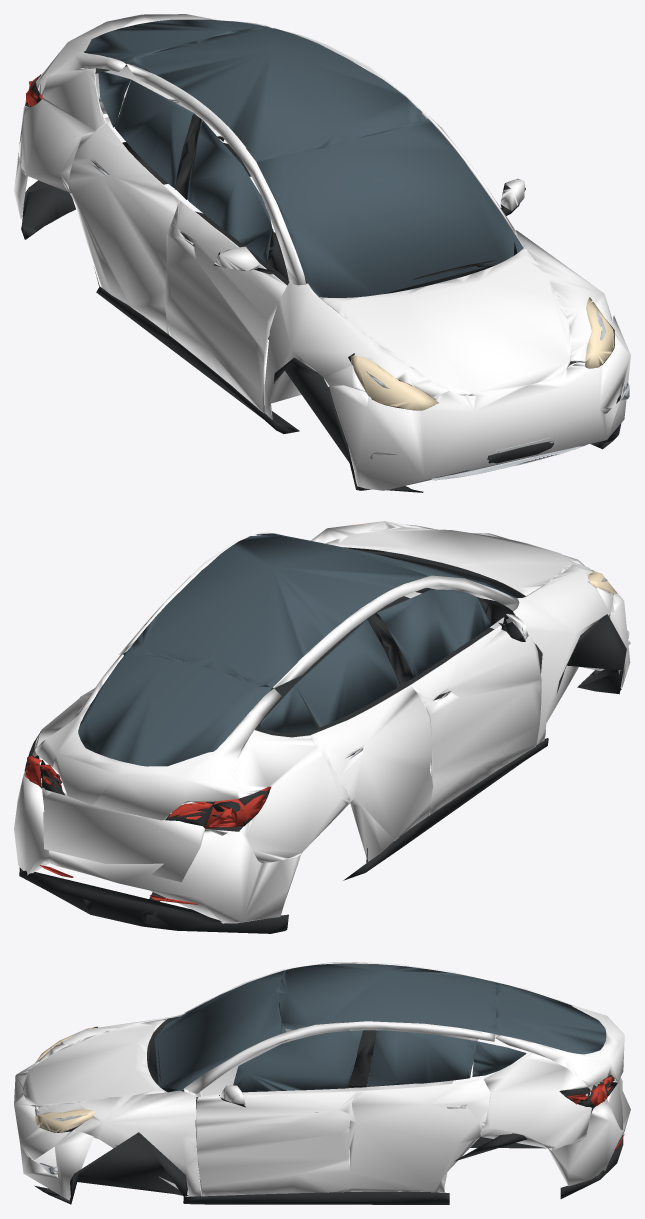
The model's file is tesla-model-y-2021.glb.
The picture shows the model from 3 angles, top to bottom: view 1: azimuth 30°, elevation 25°; view 2: azimuth 150°, elevation 25°; view 3: azimuth 270°, elevation 25°; orthographic projection. The views are drawn at different scales.
Parts seen in each view (by area): view 1: tesla-model-y-2021; view 2: tesla-model-y-2021; view 3: tesla-model-y-2021.
Boxes of the visible parts, box(x1,y1,x2,y2) form: tesla-model-y-2021: box(14, 14, 630, 492); tesla-model-y-2021: box(14, 521, 630, 933); tesla-model-y-2021: box(14, 962, 630, 1204).
Bounding box in the file's own units: 2.04 × 1.6 × 4.74.
